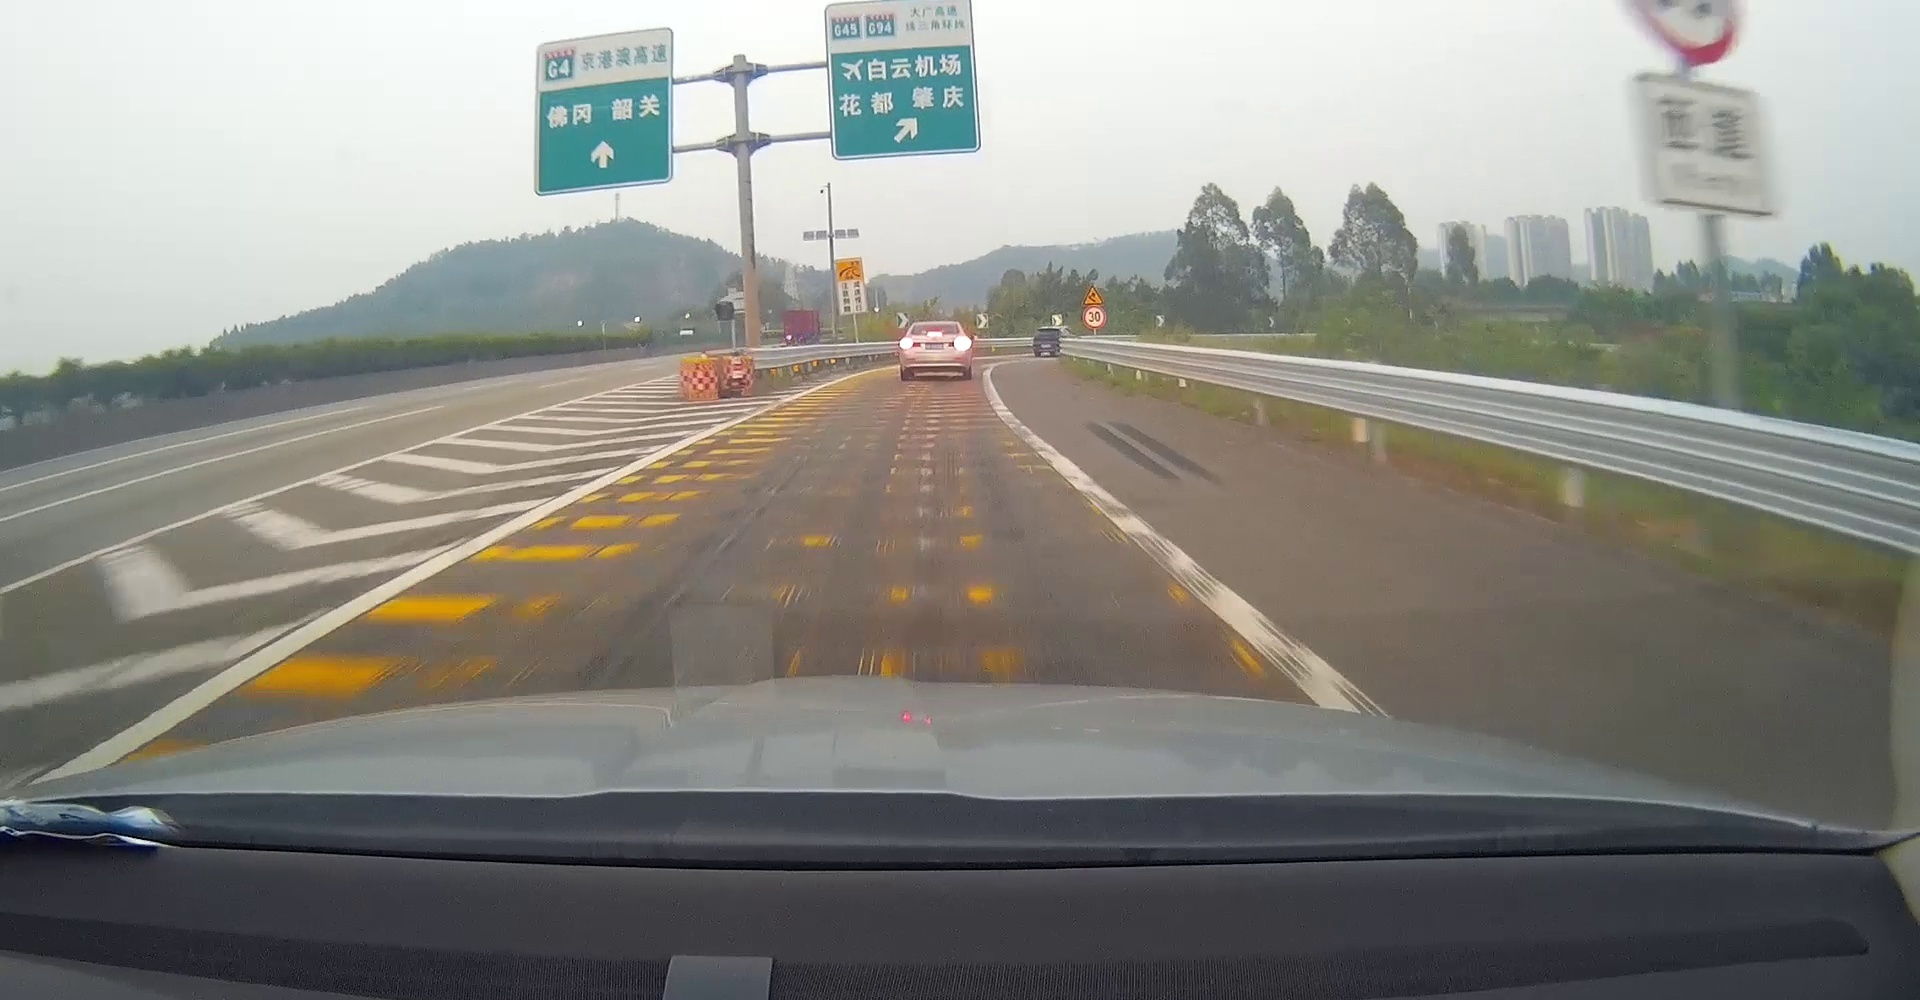L_light: (900, 338, 921, 348)
R_light: (949, 336, 970, 350)
T_light: (927, 332, 942, 336)
day-brake: (900, 321, 971, 379)
